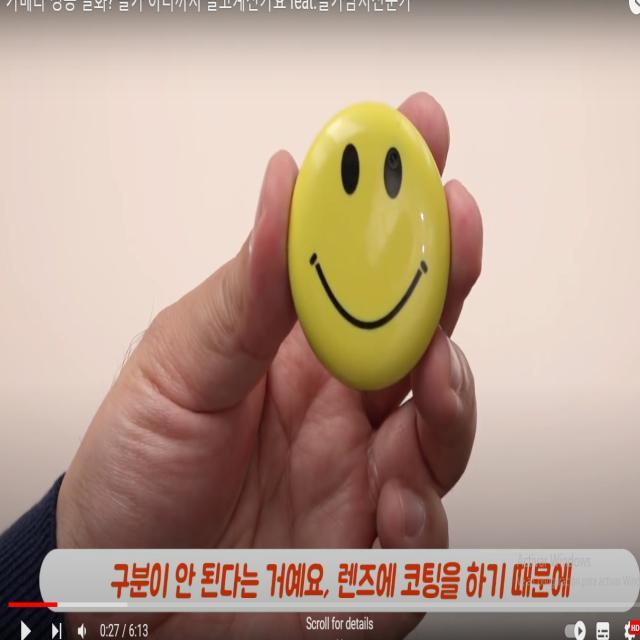hidden camera: (386, 146, 401, 171)
